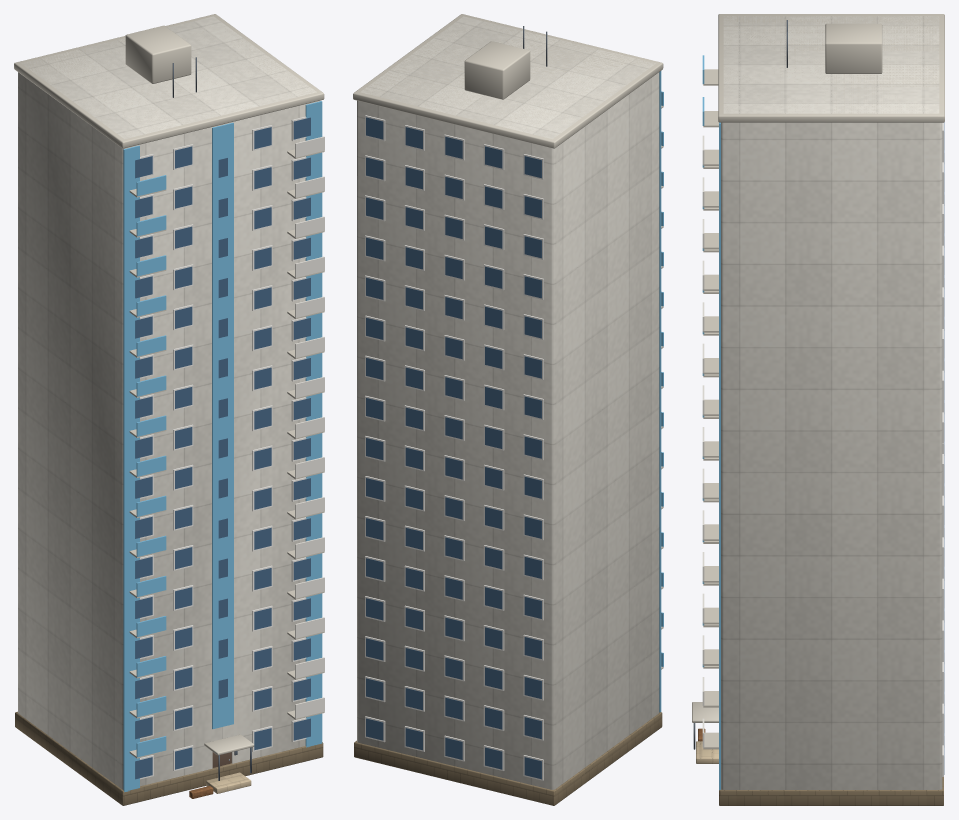
Rendered from panel_c.gltf.
The picture shows the model from 3 angles, left to right: view 1: azimuth 30°, elevation 25°; view 2: azimuth 150°, elevation 25°; view 3: azimuth 270°, elevation 25°; orthographic projection. The views are drawn at different scales.
Parts seen in each view (by area): view 1: panel_c_mesh; view 2: panel_c_mesh; view 3: panel_c_mesh.
Part boxes in pixels (x1=…): panel_c_mesh: x1=14, y1=14, x2=324, y2=805; panel_c_mesh: x1=353, y1=14, x2=663, y2=805; panel_c_mesh: x1=692, y1=14, x2=944, y2=805.
Size of what is drawn, in the model's own units: 15.3 by 50.6 by 15.95.
14 materials, 4 textured.
